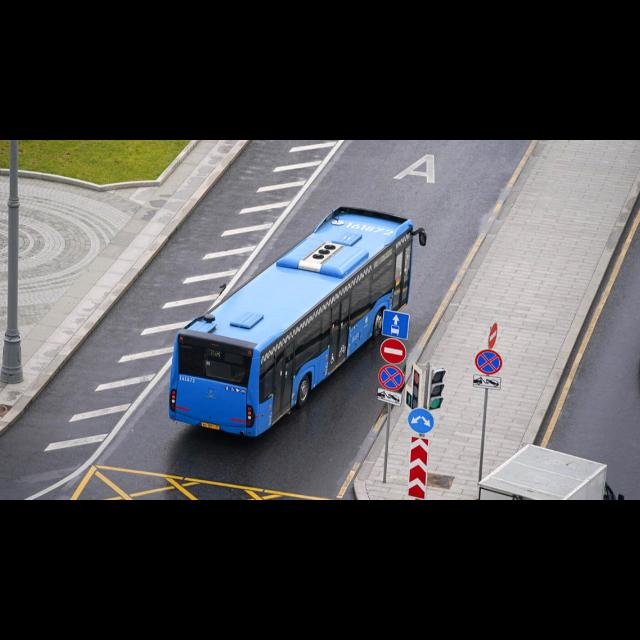road: (0, 140, 384, 498), (235, 140, 530, 346), (550, 233, 639, 498)
